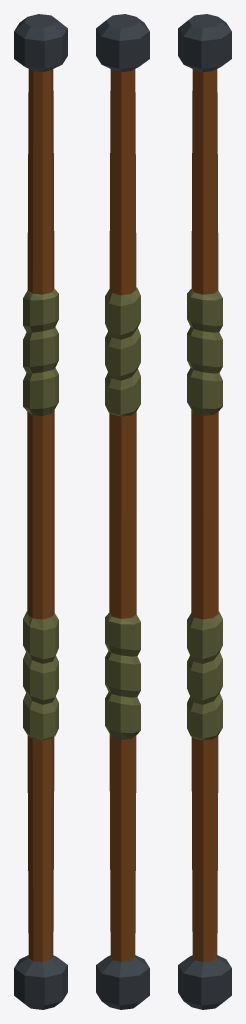
File: monk-s-quarterstaff-cbdadd.glb
3 views of the same model, side by side, from view 1: azimuth 30°, elevation 25°; view 2: azimuth 150°, elevation 25°; view 3: azimuth 330°, elevation 25° (orthographic).
Parts seen in each view (by area): view 1: quarterstaff; view 2: quarterstaff; view 3: quarterstaff.
Boxes of the visible parts, x1,y1,x2,y2 form: quarterstaff: (14,14,67,1009); quarterstaff: (96,14,149,1009); quarterstaff: (178,14,231,1009).
Bounding box in the file's own units: 0.0831 × 1.8 × 0.0831.
